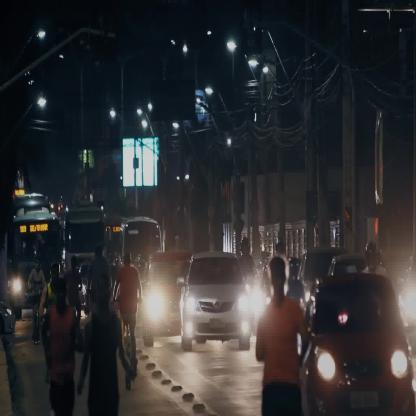bus: (3, 213, 58, 320)
car: (300, 272, 416, 414), (176, 251, 250, 351), (141, 252, 194, 346)
motorcycle: (28, 259, 44, 345)
